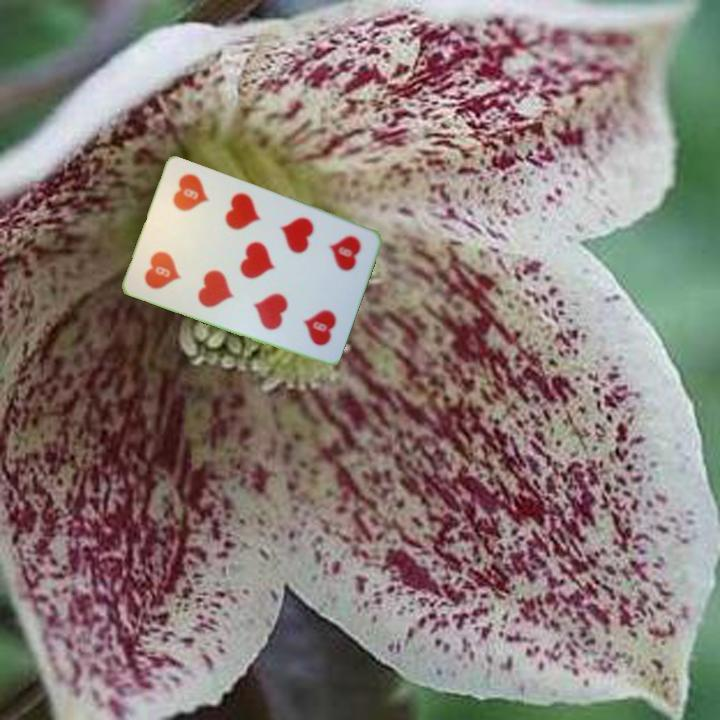h_9.png: (297, 219, 373, 300), (132, 224, 208, 305)
